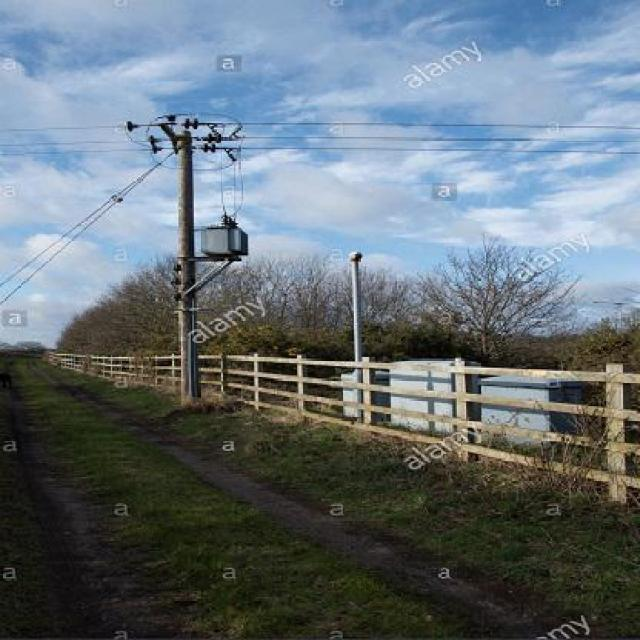pole: (115, 109, 257, 402)
